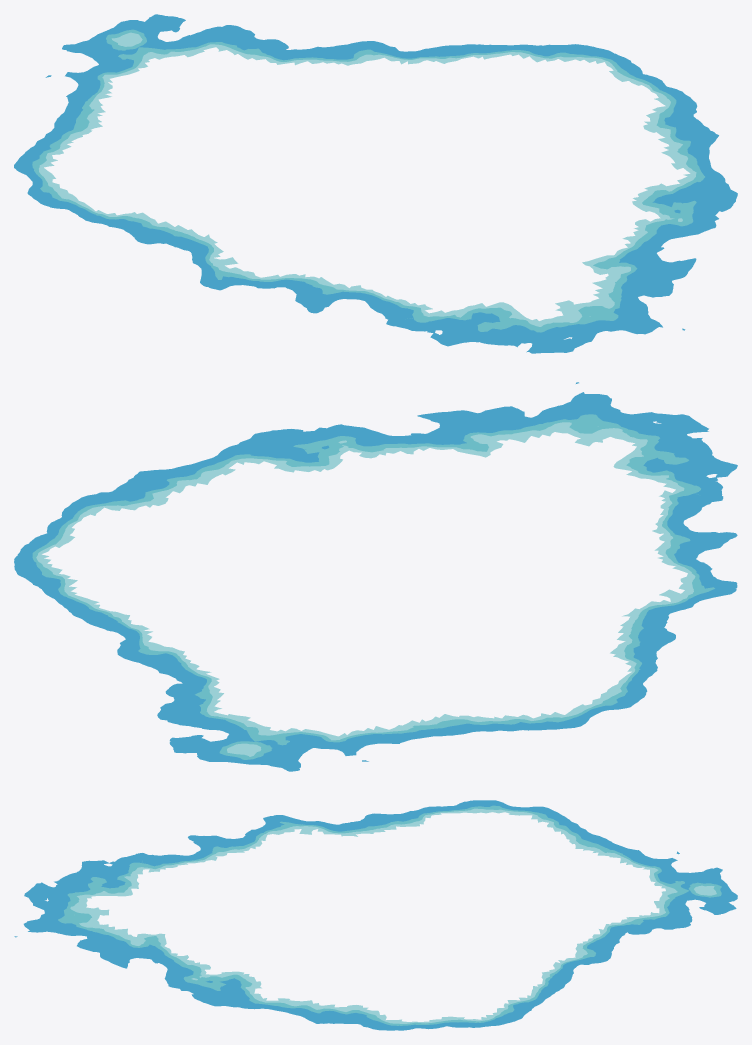
The model's file is Isl-flat2-Water.fbx.
3 views of the same model, one above another, from view 1: azimuth 30°, elevation 25°; view 2: azimuth 150°, elevation 25°; view 3: azimuth 270°, elevation 25° (orthographic). The views are drawn at different scales.
Visible parts, largest first — view 1: Isl-flat2-Water; view 2: Isl-flat2-Water; view 3: Isl-flat2-Water.
Boxes of the visible parts, x1,y1,x2,y2 form: Isl-flat2-Water: [14, 14, 737, 353]; Isl-flat2-Water: [14, 382, 737, 771]; Isl-flat2-Water: [14, 800, 737, 1030].
Bounding box in the file's own units: 96.96 × 0 × 129.
